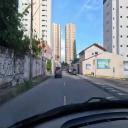NoEstacionar: (27, 42, 33, 51)
